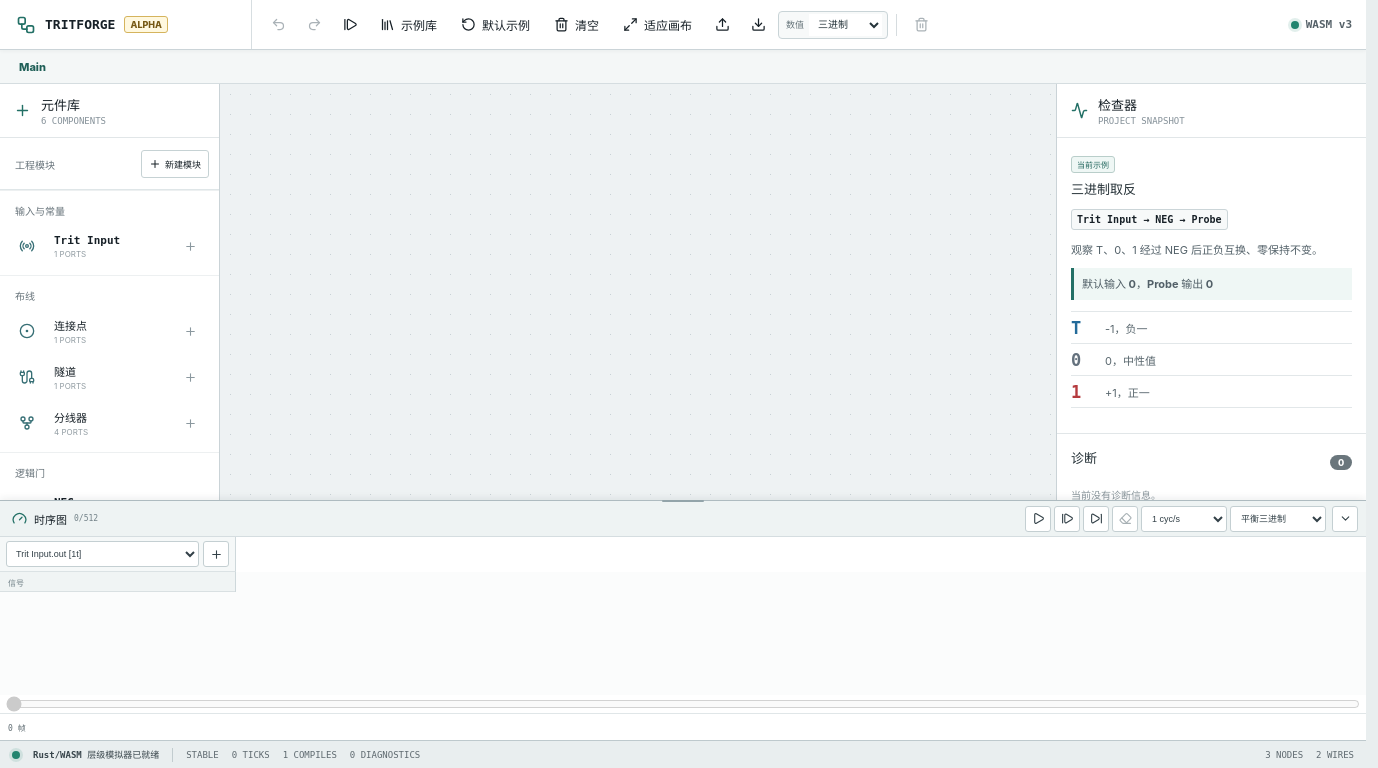
Test case: App › pauses automatic execution while retaining the runtime fault frame
expect the text "Rust/WASM 层级模拟器已就绪" is shown: met, box [33, 748, 159, 761]
Select "20 cyc/s" in the dropdown named "自动时钟速度" at (1184, 518), box [1141, 506, 1227, 532]
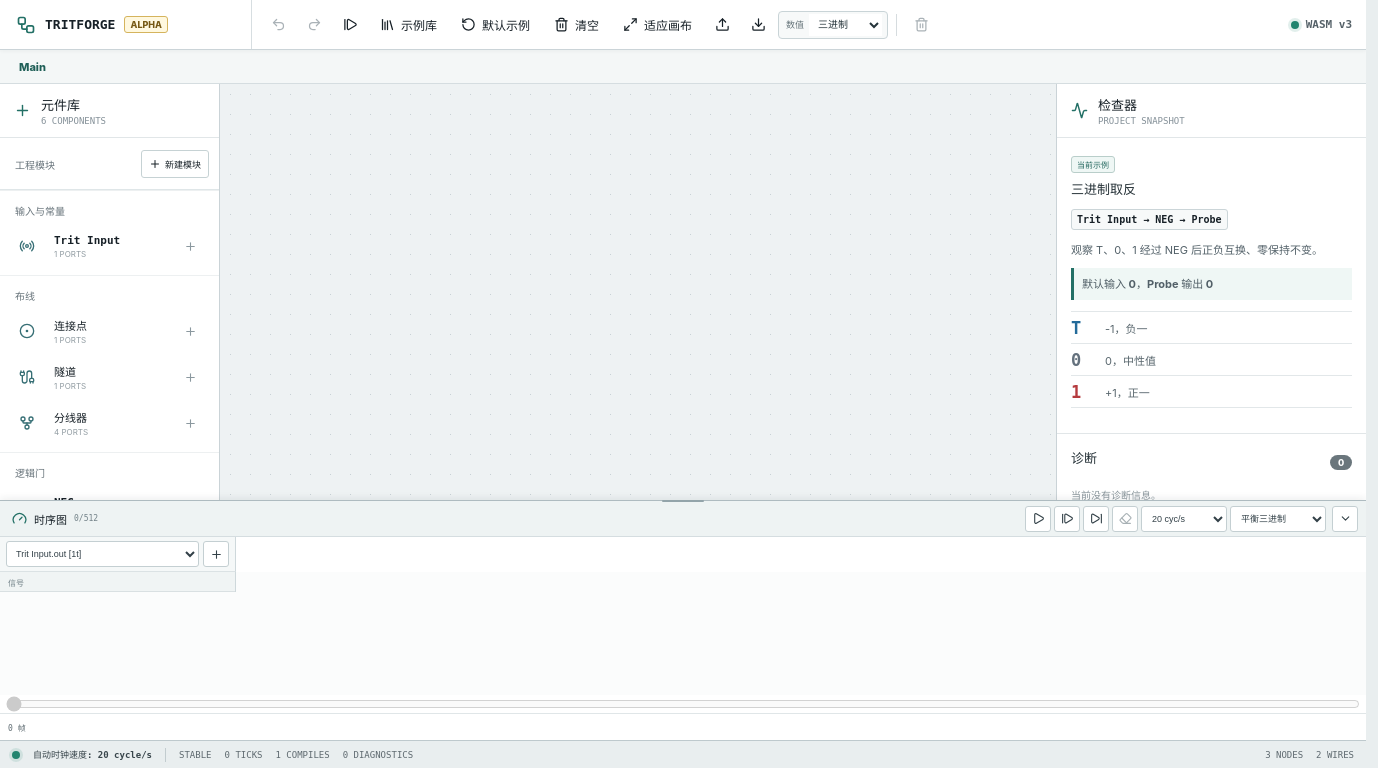
Click the button named "运行自动时钟".
click(1038, 518)  # box [1025, 506, 1051, 532]
Wait 25 ms
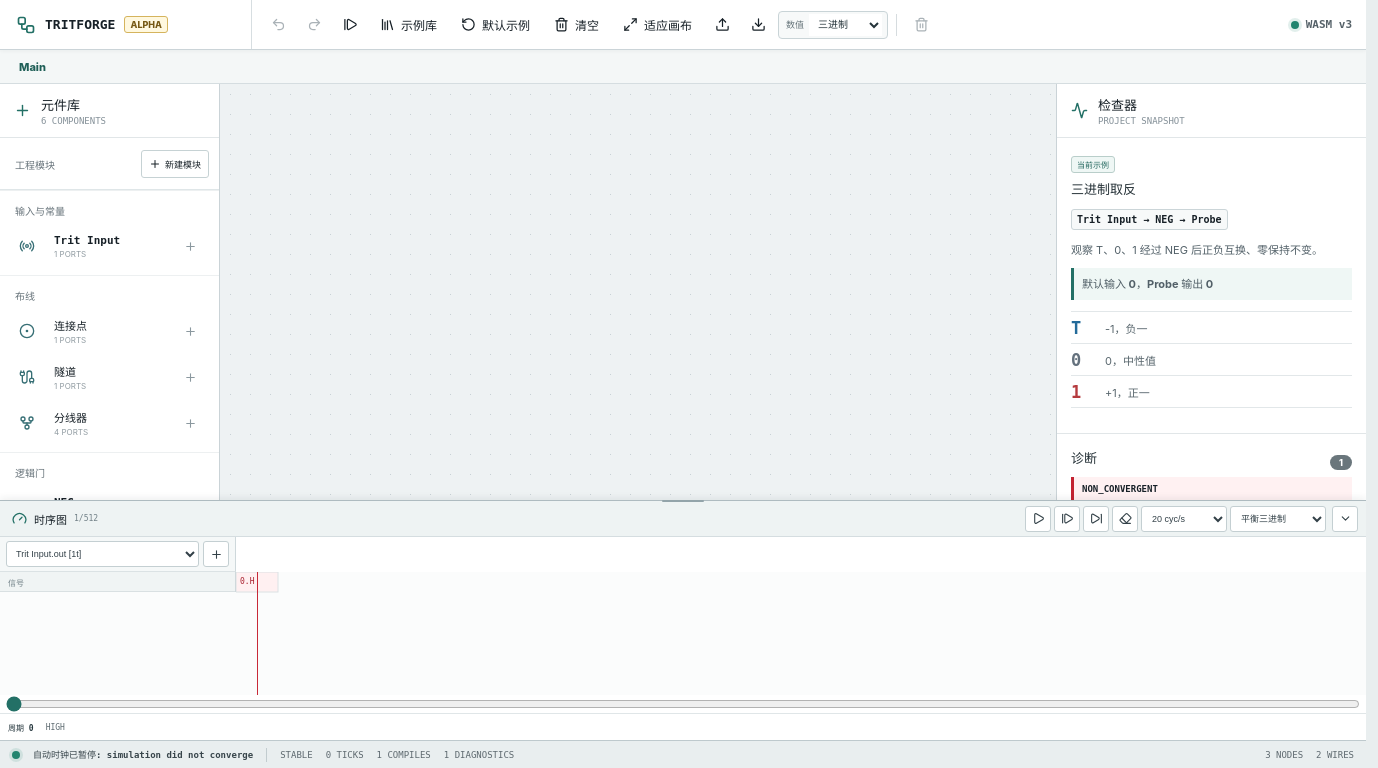
expect the text "自动时钟已暂停: simulation did not converge" is shown: met, box [33, 748, 253, 761]
